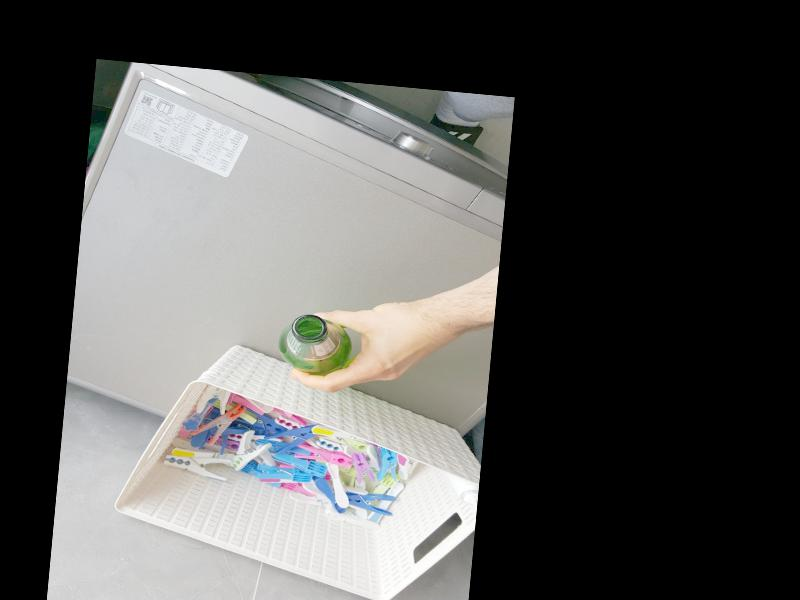Beer: (275, 310, 355, 378)
